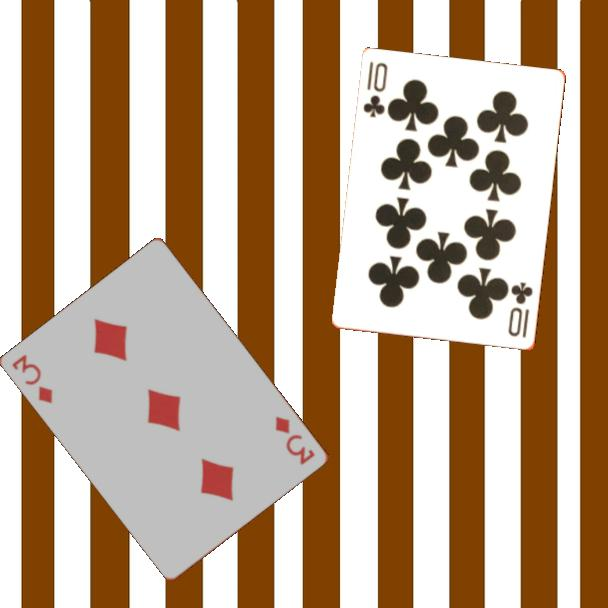c10: (505, 279, 536, 341), (360, 59, 391, 121)
d03: (8, 351, 56, 406), (272, 413, 318, 468)
